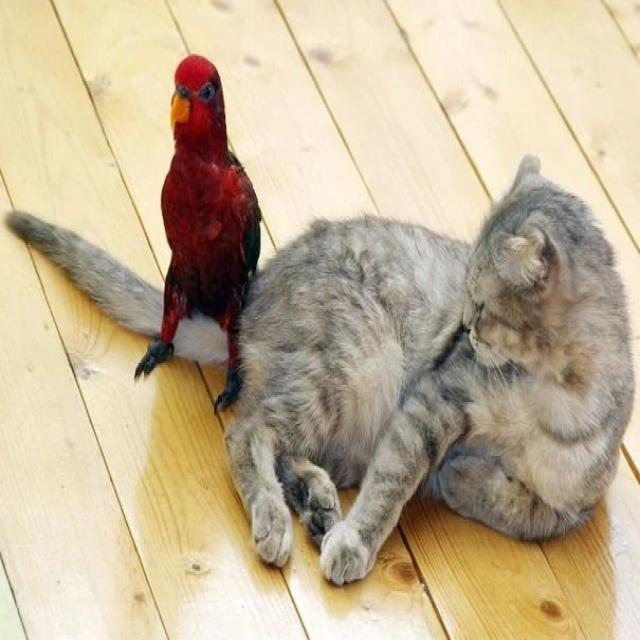Cats: (7, 157, 635, 589)
